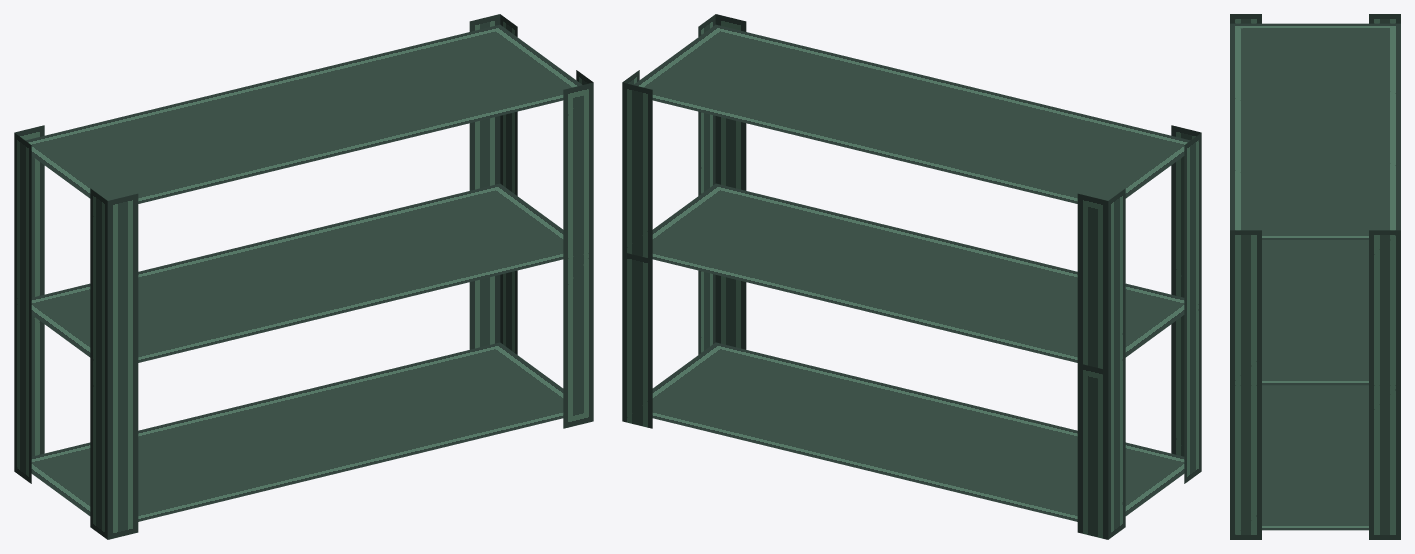
File: Shelf.gltf
3 renders of one model, left to right at view 1: azimuth 30°, elevation 25°; view 2: azimuth 150°, elevation 25°; view 3: azimuth 270°, elevation 25°, orthographic. The views are drawn at different scales.
Visible parts, largest first — view 1: Shelf; view 2: Shelf; view 3: Shelf.
Part boxes in pixels (bbox=[...]): Shelf: bbox=[14, 14, 593, 539]; Shelf: bbox=[622, 14, 1201, 539]; Shelf: bbox=[1230, 14, 1400, 539].
Bounding box in the file's own units: 3 × 2 × 1.
1 material, 1 textured.
